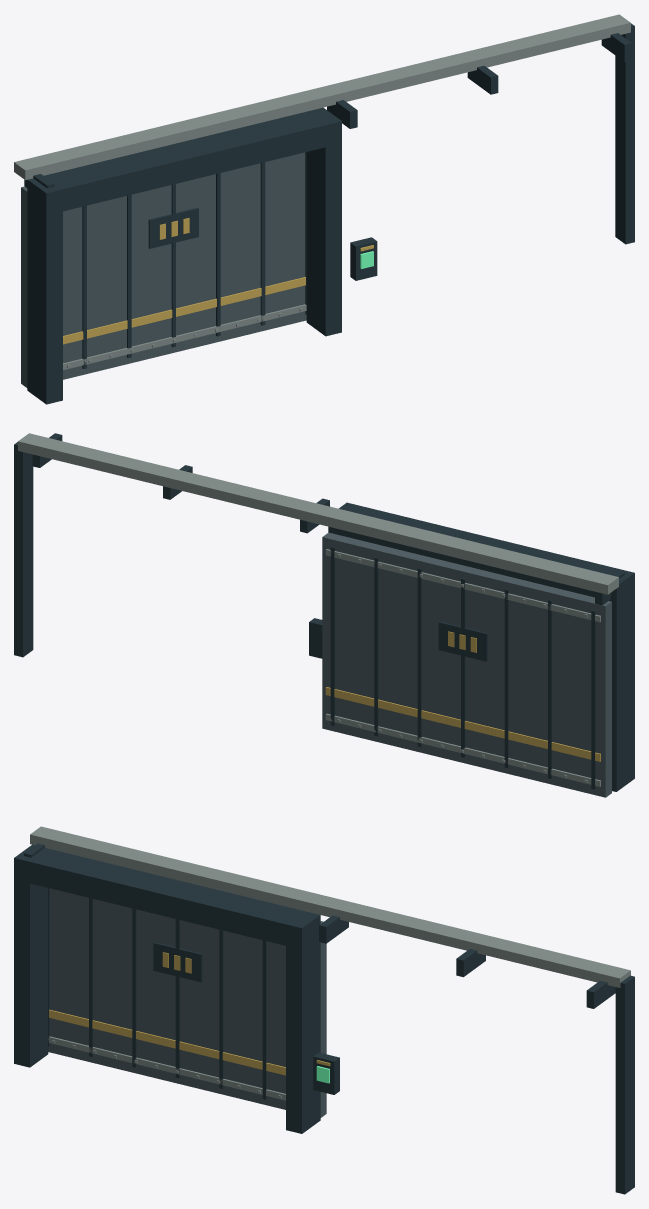
File: FSA_ENV_Door_ProtectedSlide.glb
3 views of the same model, one above another, from view 1: azimuth 30°, elevation 25°; view 2: azimuth 150°, elevation 25°; view 3: azimuth 330°, elevation 25° (orthographic). The views are drawn at different scales.
Visible parts, largest first — view 1: Leaf, Track, Header, FrameLeft, FrameRight, EndStop, Stripe59, Rail57, Plaque86, Rib55, SwitchFront, Rib51 (+6 smaller); view 2: Leaf, Track, FrameLeft, Header, EndStop, Stripe19, Rail17, Rail18, Plaque46, Rib16, Rib12, Rib10 (+5 smaller); view 3: Leaf, Track, Header, FrameRight, FrameLeft, EndStop, Stripe59, Rail57, Plaque86, SwitchFront, Rib55, Rib52 (+6 smaller).
Boxes of the visible parts, <box> form: Leaf: <box>21,152,306,387</box>; Track: <box>14,14,630,180</box>; Header: <box>27,111,341,215</box>; FrameLeft: <box>27,176,62,404</box>; FrameRight: <box>306,107,341,336</box>; EndStop: <box>615,23,634,244</box>; Stripe59: <box>63,277,305,344</box>; Rail57: <box>63,304,306,370</box>; Plaque86: <box>148,207,198,248</box>; Rib55: <box>260,162,265,325</box>; SwitchFront: <box>350,237,377,280</box>; Rib51: <box>82,205,86,368</box>; Leaf: <box>322,532,611,797</box>; Track: <box>18,433,618,594</box>; FrameLeft: <box>609,569,634,791</box>; Header: <box>328,506,634,607</box>; EndStop: <box>14,442,33,657</box>; Stripe19: <box>325,687,600,761</box>; Rail17: <box>325,713,600,786</box>; Rail18: <box>325,549,600,622</box>; Plaque46: <box>438,621,487,661</box>; Rib16: <box>330,546,335,725</box>; Rib12: <box>504,588,508,768</box>; Rib10: <box>591,610,595,789</box>; Leaf: <box>48,888,326,1117</box>; Track: <box>30,826,630,987</box>; Header: <box>14,848,320,949</box>; FrameRight: <box>286,911,320,1133</box>; FrameLeft: <box>14,844,48,1067</box>; EndStop: <box>615,975,634,1194</box>; Stripe59: <box>49,1009,285,1075</box>; Rail57: <box>48,1036,285,1100</box>; Plaque86: <box>153,942,202,982</box>; SwitchFront: <box>313,1052,339,1094</box>; Rib55: <box>262,940,266,1099</box>; Rib52: <box>132,908,136,1067</box>.
Bounding box in the file's own units: 13 × 4.5 × 1.19.
